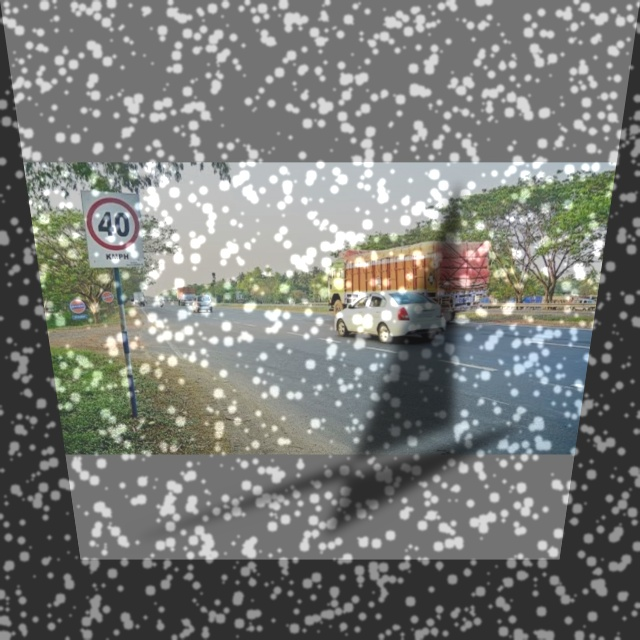Speed_Limit_40: (81, 188, 147, 271)
